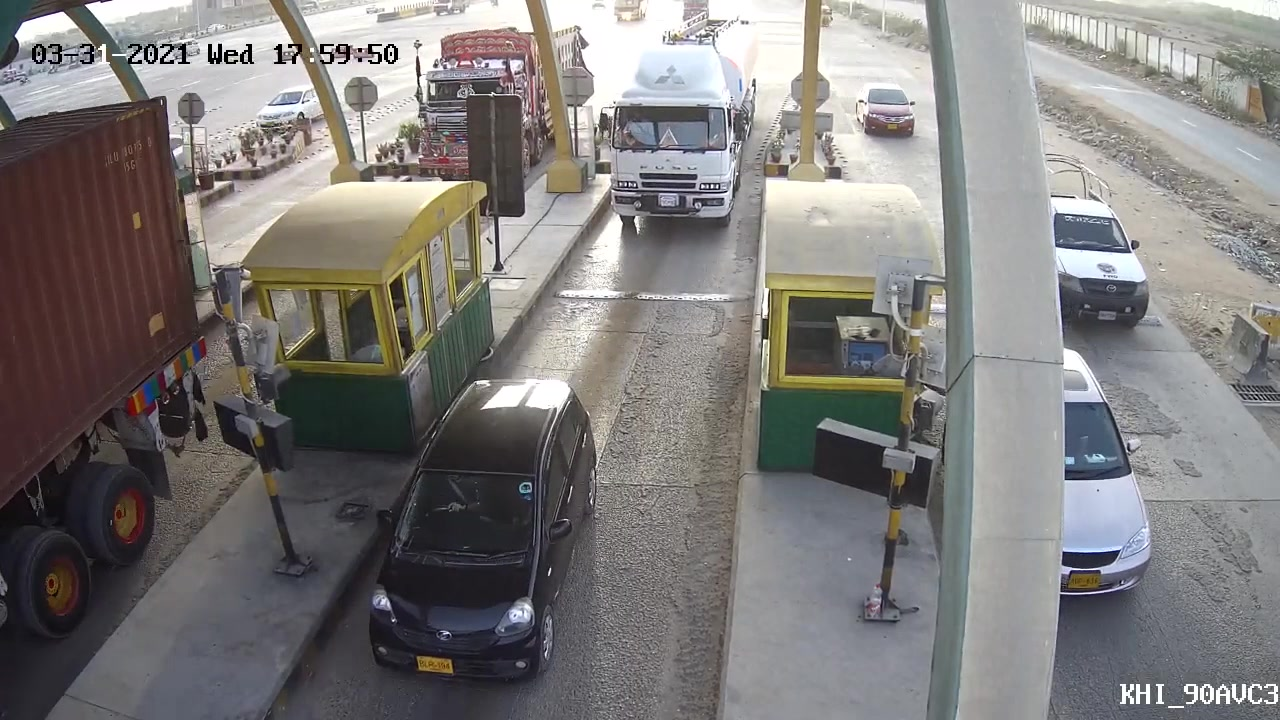F1: (353, 370, 612, 690)
F6: (594, 15, 761, 228)
